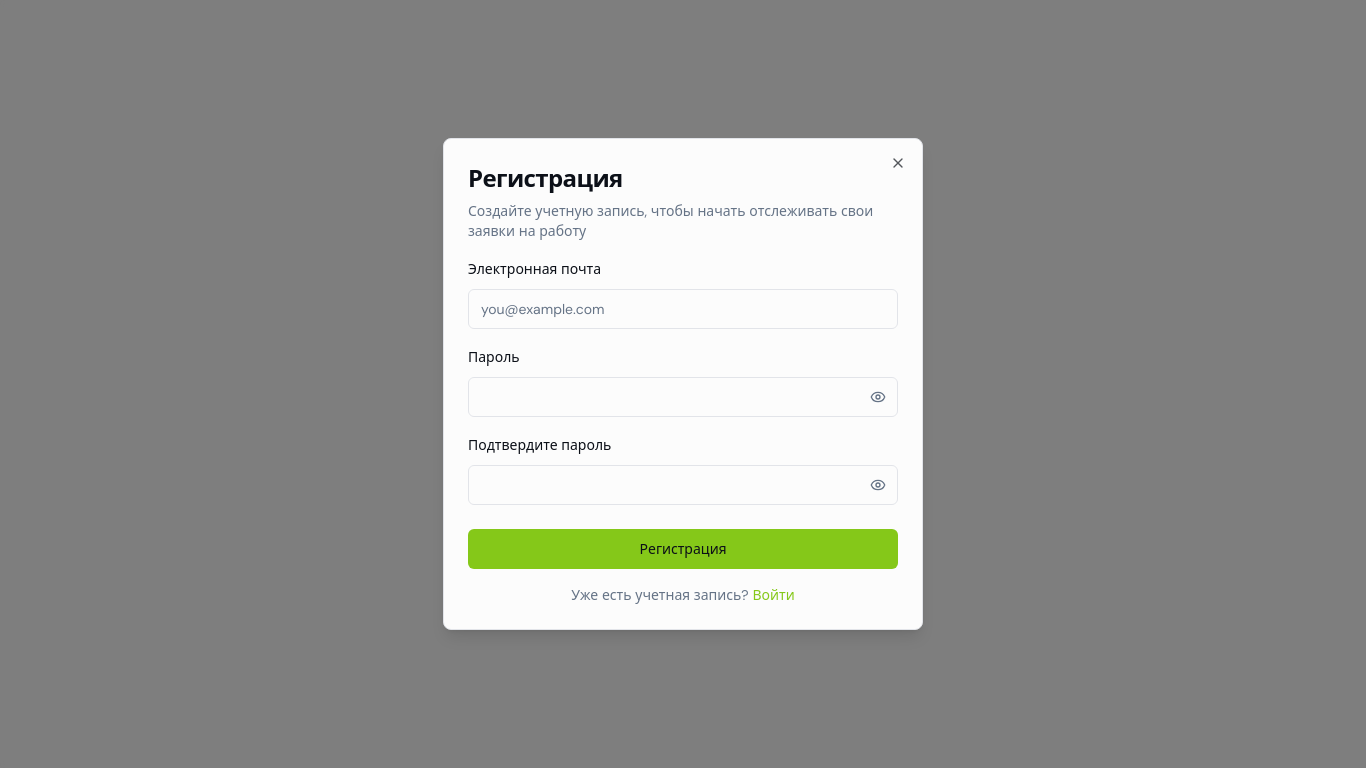
Test: a password the server refused, in ru › localises USER_ALREADY_EXISTS in the registration form
Type "user@test.com" into the field labelled "Электронная почта" at (683,309), box [468, 289, 898, 329]
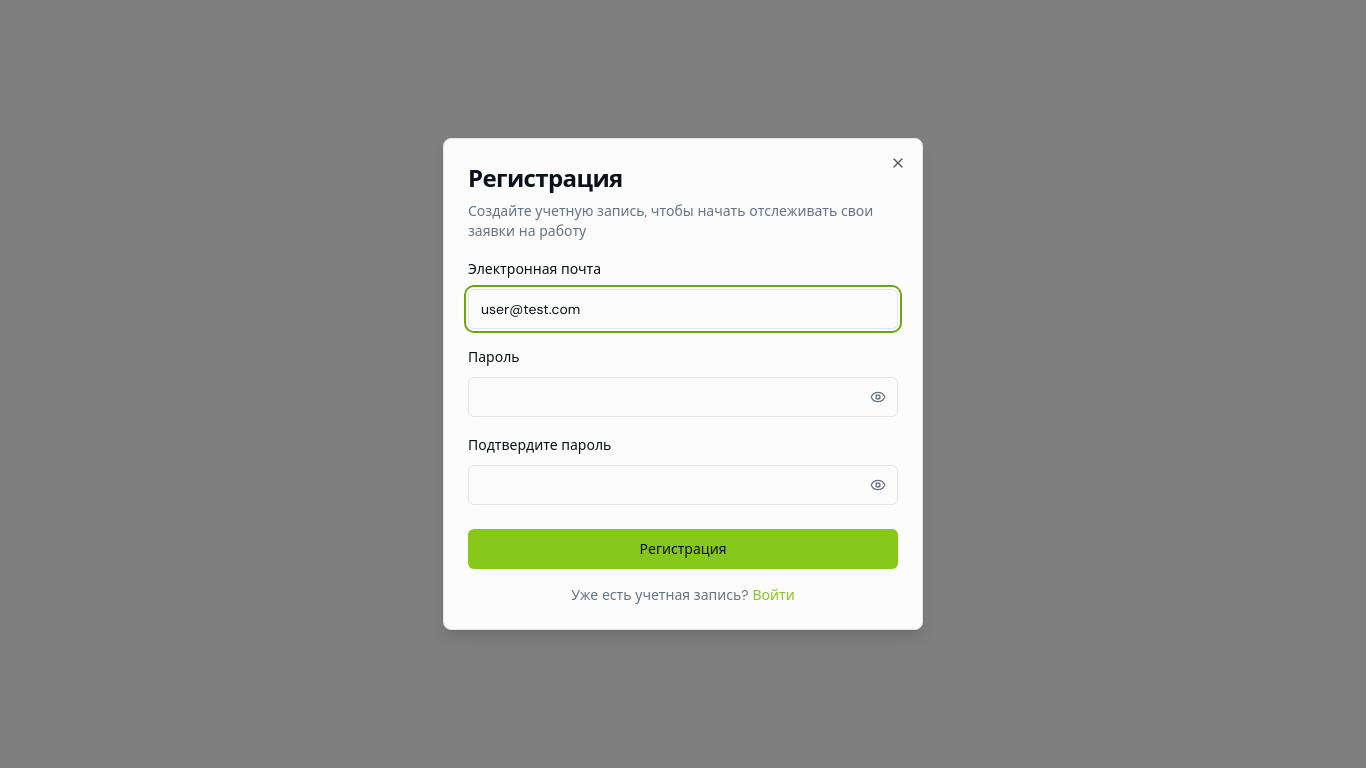
Type "validpass1" into the password field labelled "Пароль" at (683,397), box [468, 377, 898, 417]
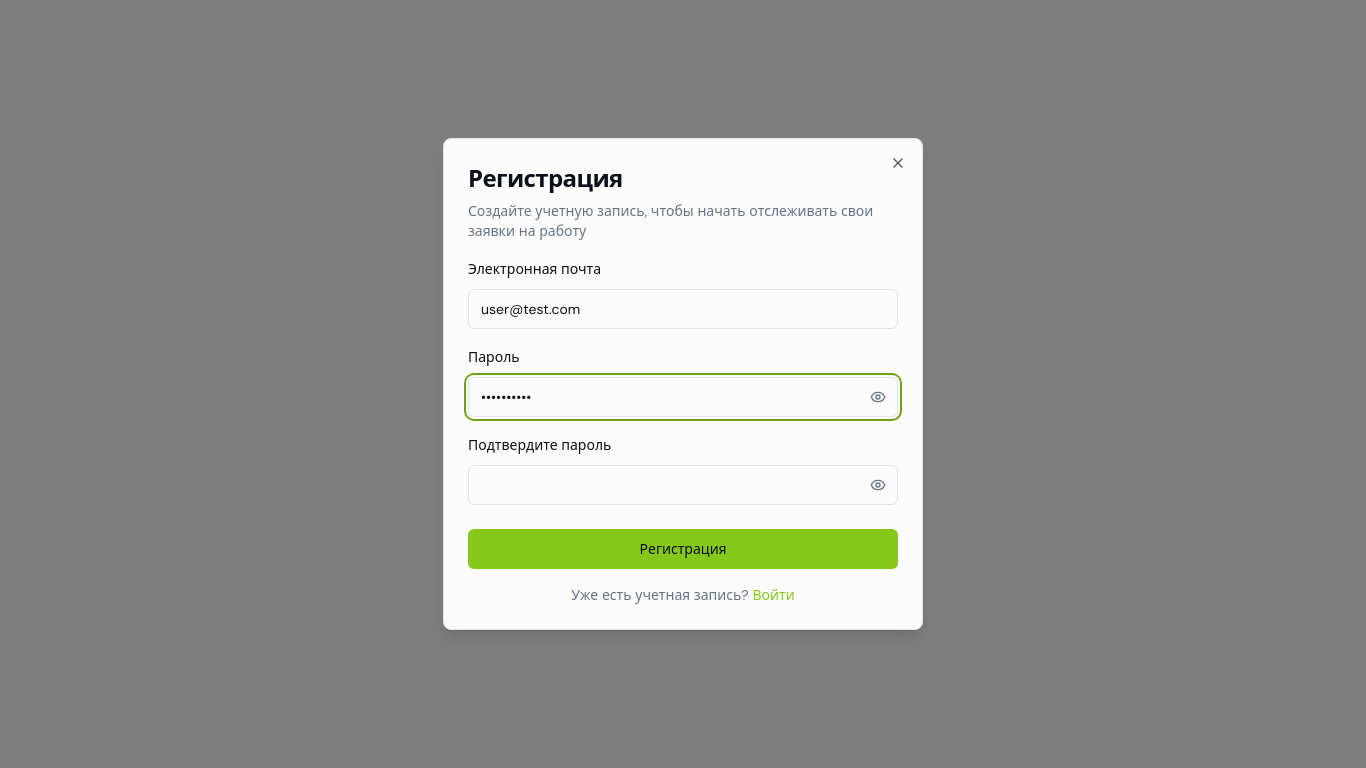
Type "validpass1" into the password field labelled "Подтвердите пароль" at (683,485), box [468, 465, 898, 505]
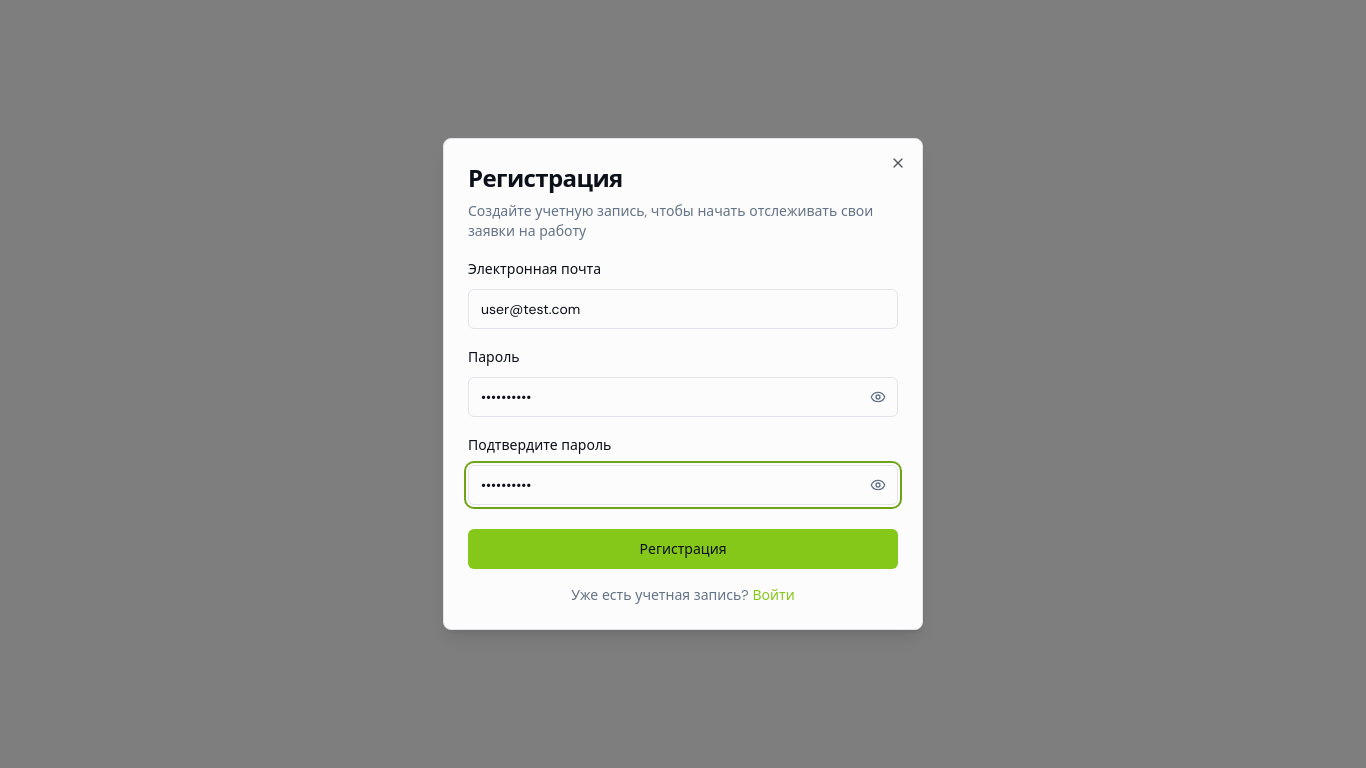
Click the button "Регистрация" at (683,549), box [468, 529, 898, 569]
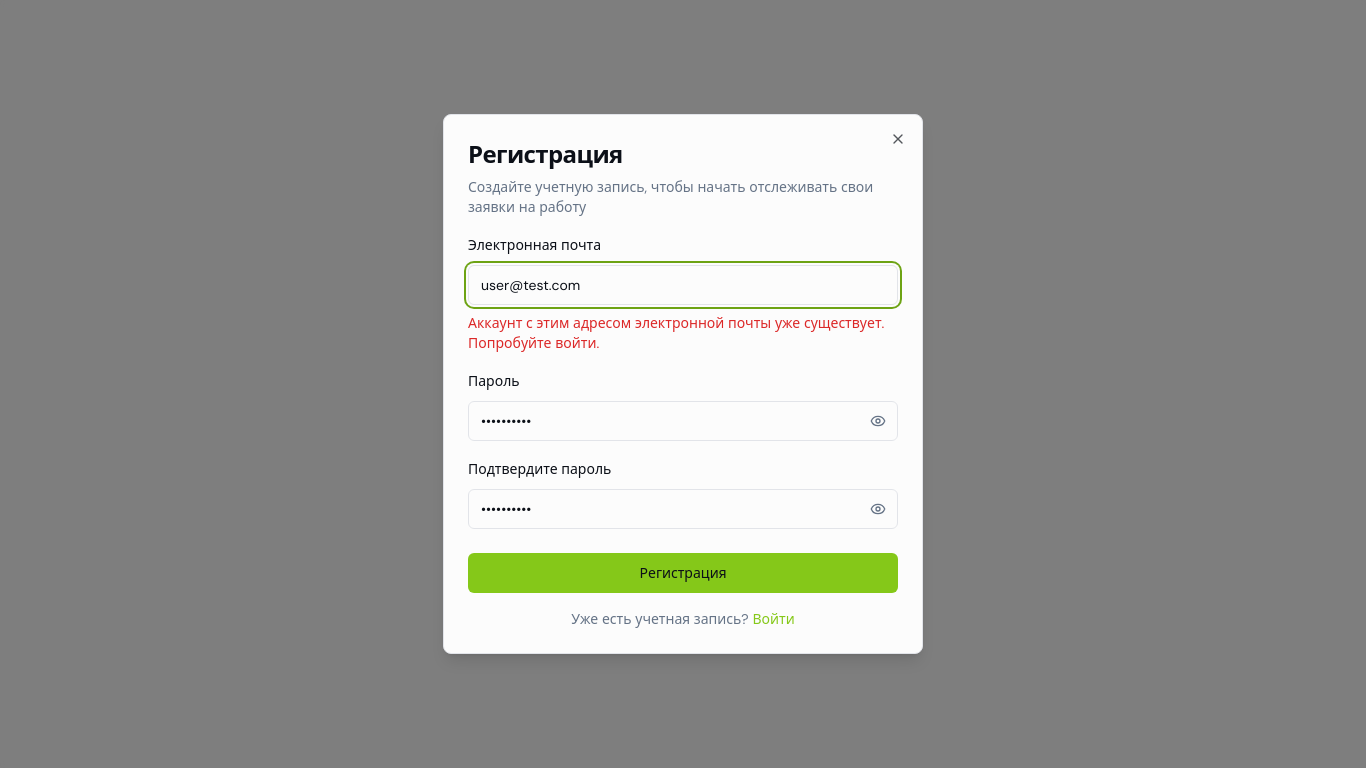
Expected: the text "Аккаунт с этим адресом электронной почты уже существует. Попробуйте войти." is shown, [468, 313, 898, 353]
